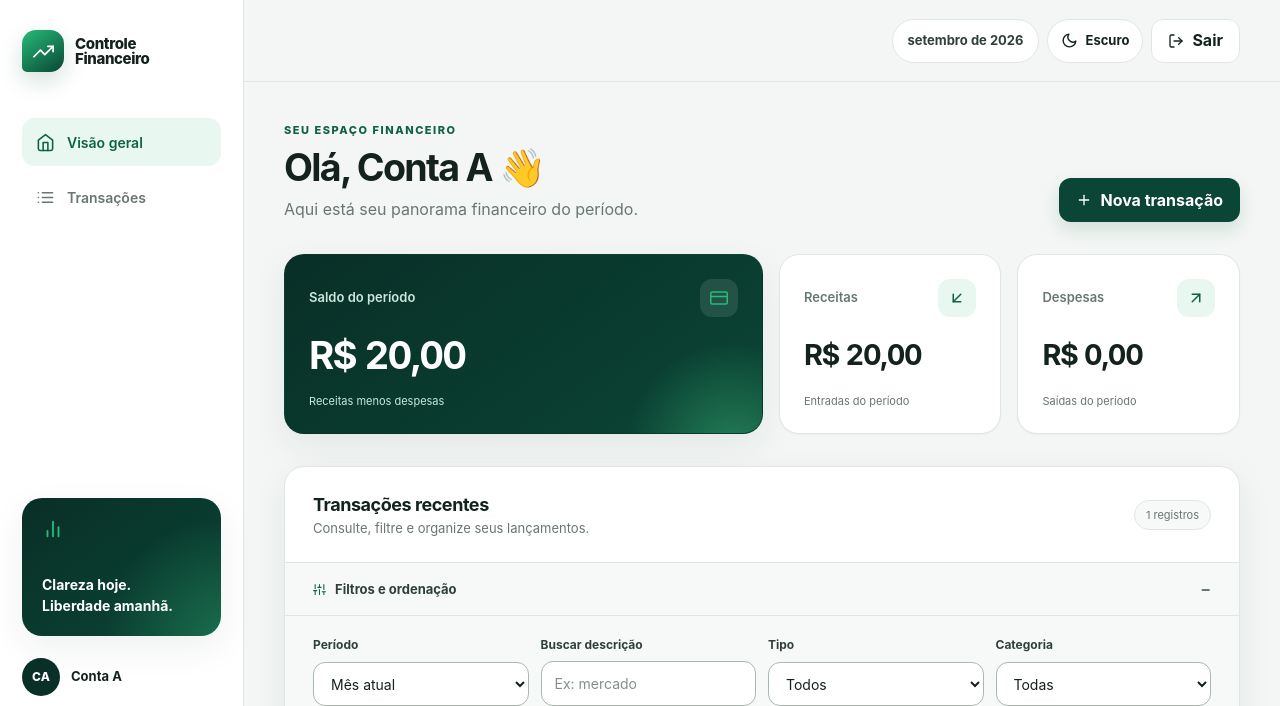
resposta antiga não restaura dados após logout
Expected: the button "Nova transação" is enabled, top-left (1059, 178), bottom-right (1240, 222)
Click the button "Sair": (1196, 40) top-left (1151, 18), bottom-right (1240, 62)
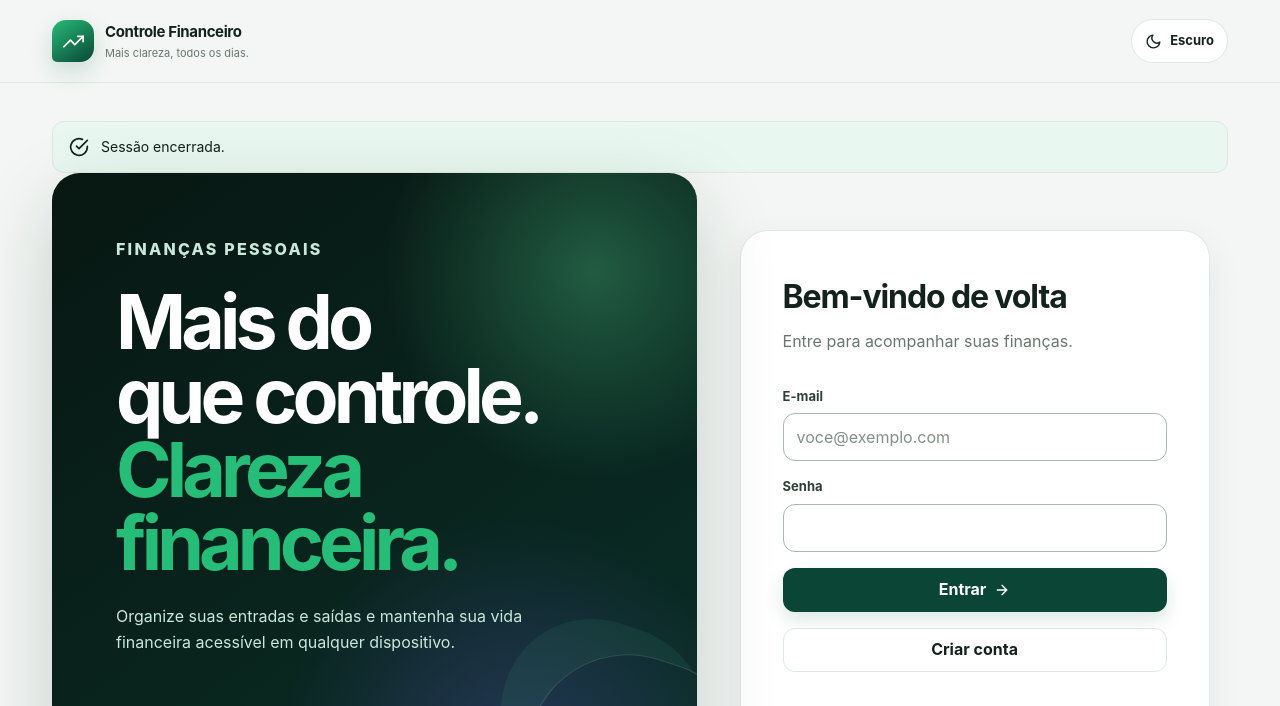
Expected: the button "Entrar" is shown, top-left (782, 568), bottom-right (1166, 612)
Expected: the button "Sair" is gone
